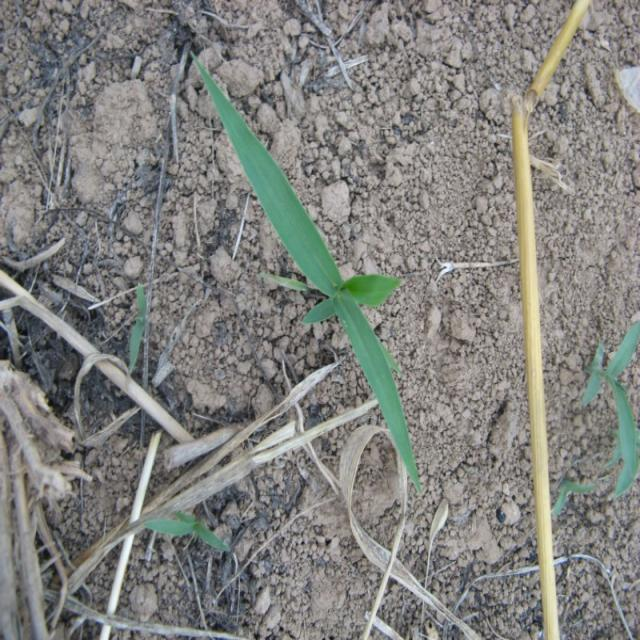bg: (189, 47, 423, 497)
